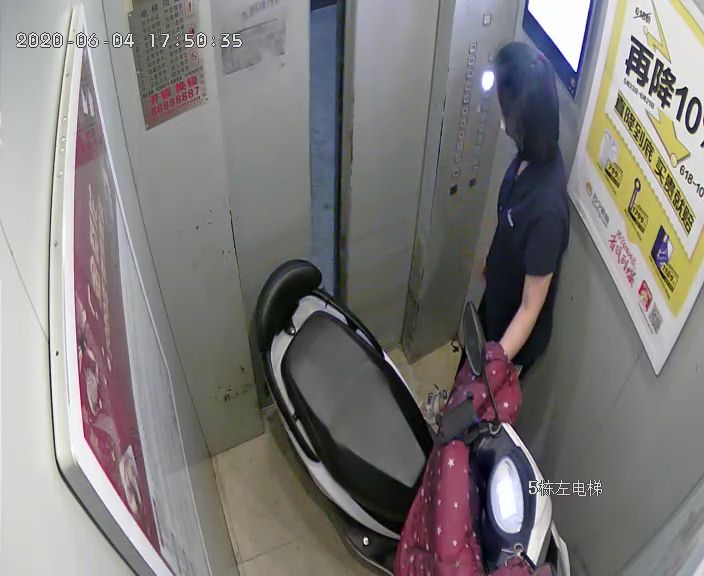Electric-bicycle: (247, 256, 570, 574)
